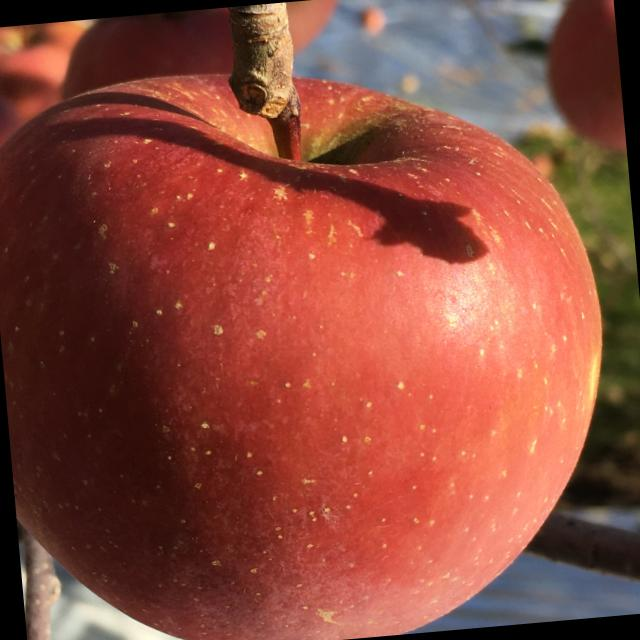fresh: (1, 22, 637, 640)
